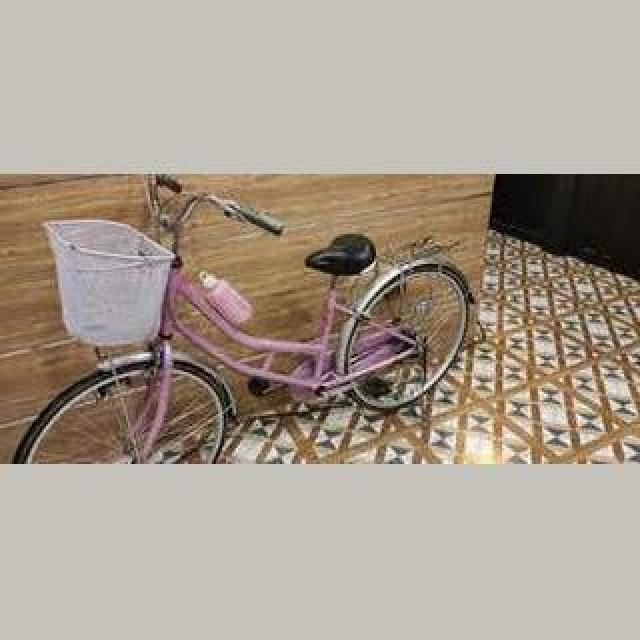Person: (9, 174, 489, 464)
